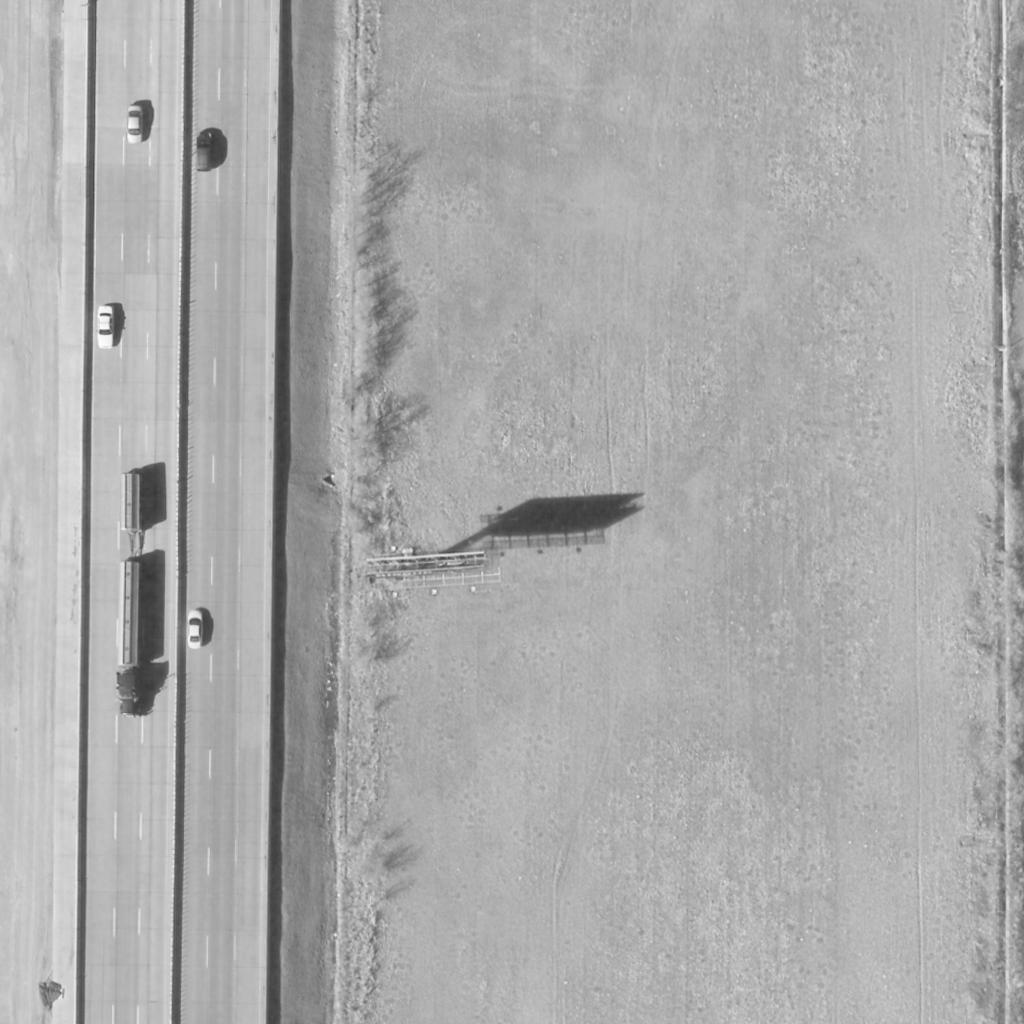vehicle: (116, 561, 146, 717), (97, 305, 115, 351), (127, 106, 145, 144), (196, 135, 214, 171), (187, 611, 203, 649)
